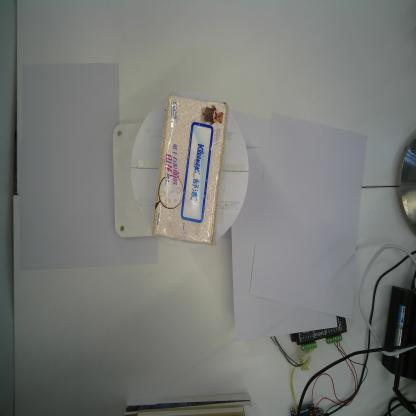Tissue: (150, 93, 228, 246)
